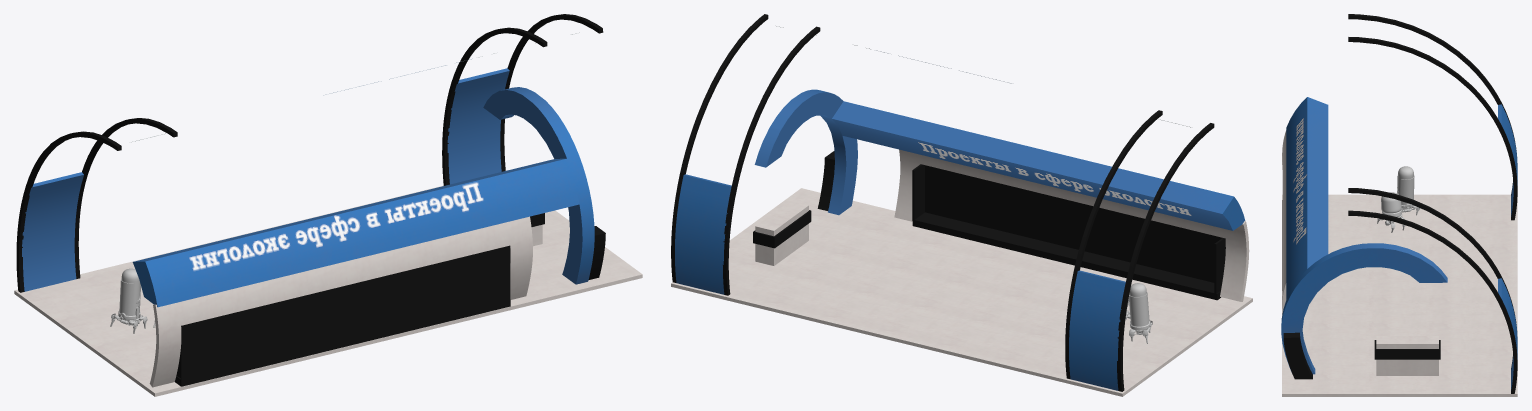
3 views of the same model, side by side, from view 1: azimuth 30°, elevation 25°; view 2: azimuth 150°, elevation 25°; view 3: azimuth 270°, elevation 25° (orthographic). The views are drawn at different scales.
Parts seen in each view (by area): view 1: Object001_low, Bot1; view 2: Object001_low, Bot1; view 3: Object001_low, Glass, Bot1.
Part boxes in pixels (x1=…): Object001_low: x1=14, y1=14, x2=642, y2=396; Bot1: x1=110, y1=278, x2=147, y2=333; Object001_low: x1=671, y1=14, x2=1252, y2=396; Bot1: x1=1128, y1=292, x2=1152, y2=343; Object001_low: x1=1281, y1=14, x2=1517, y2=396; Glass: x1=1381, y1=166, x2=1413, y2=213; Bot1: x1=1397, y1=174, x2=1419, y2=215.
Bounding box in the file's own units: 1200 × 519 × 602.
